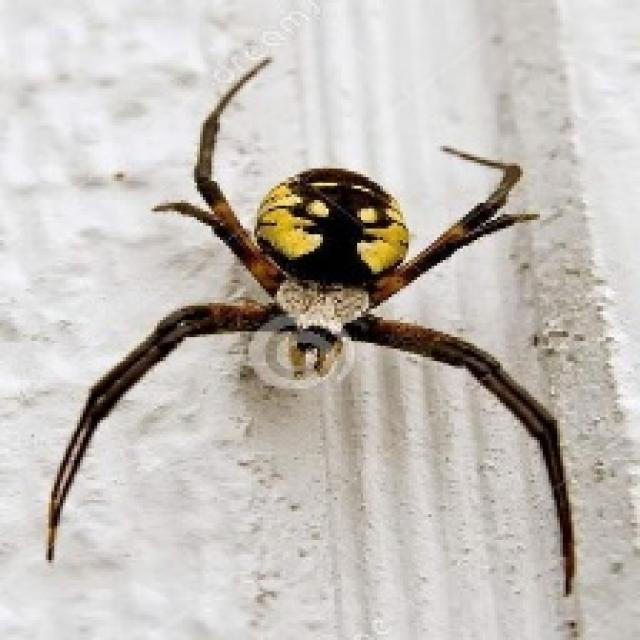Non venomous spider: (41, 41, 588, 618)
